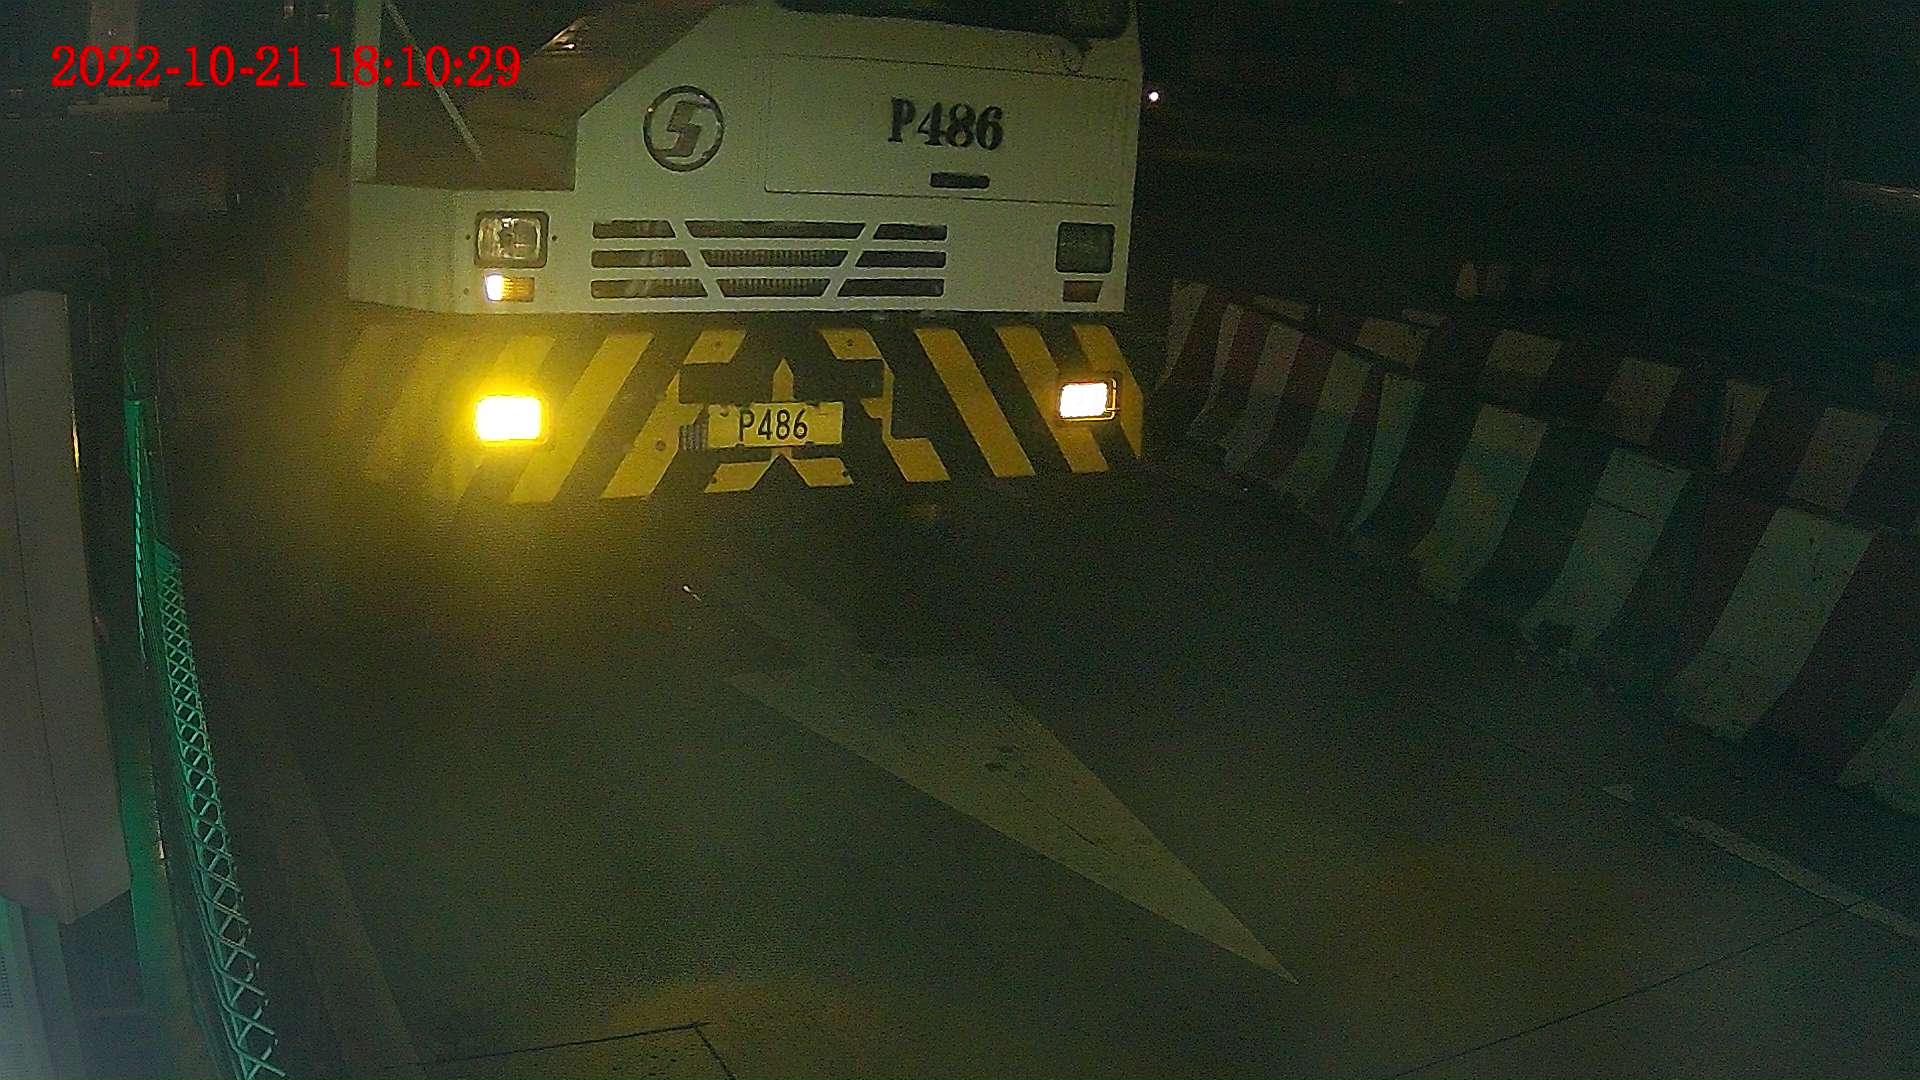head: (287, 1, 1154, 536)
plate: (699, 411, 839, 439)
